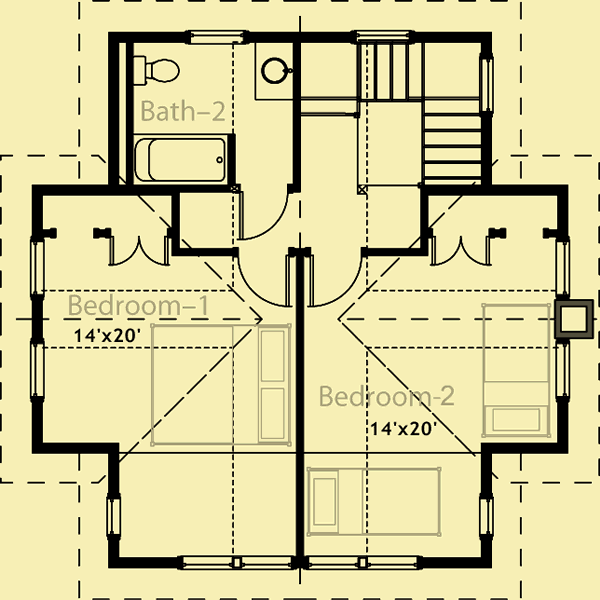there is a bedroom with a double bed: (31, 184, 306, 573)
there is a bedroom with twin beds: (307, 187, 567, 568)
this bathroom has a bathtub with small and large sink: (108, 30, 302, 189)
